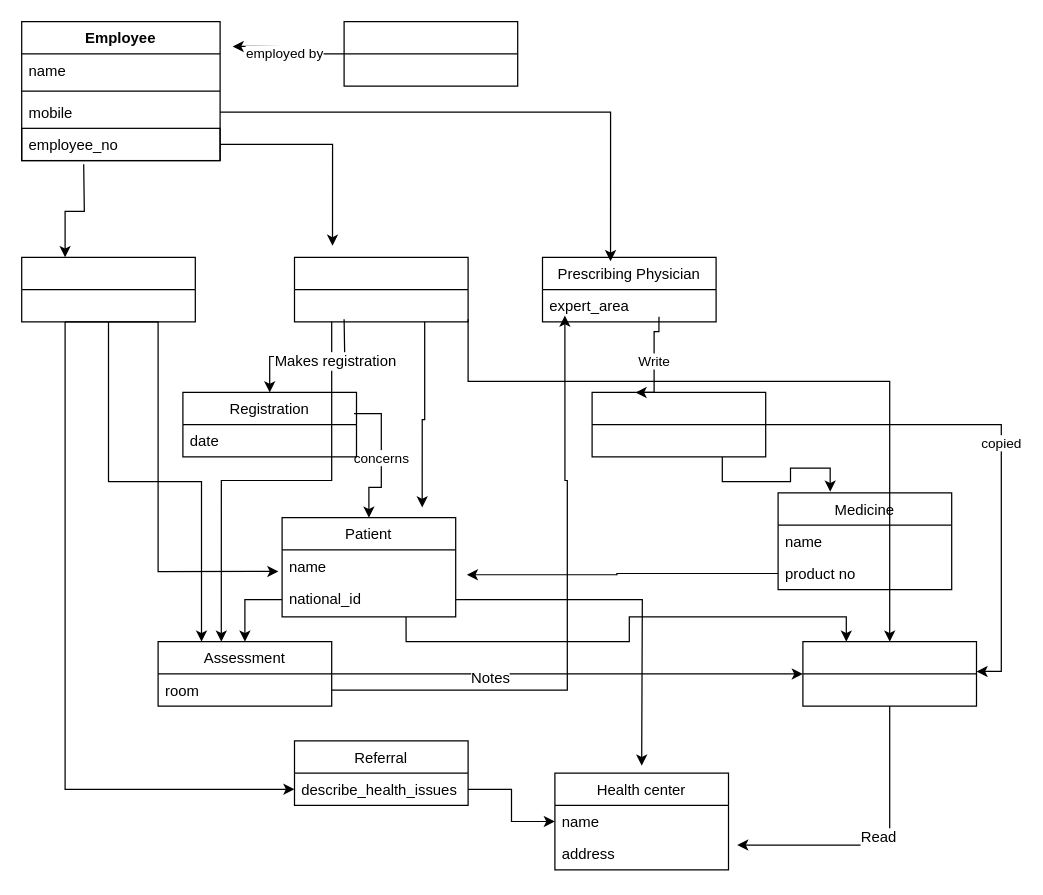
The diagram is 1043 pixels wide and 895 high, and some of its shapes have lost their labels. The centre of each missing label's shape, as x and y in pixels:
"Emergency Central" goes at (x=430, y=53).
"Mediical Record" goes at (x=889, y=673).
"Nurse" goes at (x=380, y=289).
"Physician" goes at (x=107, y=289).
"Prescription" goes at (x=678, y=424).
